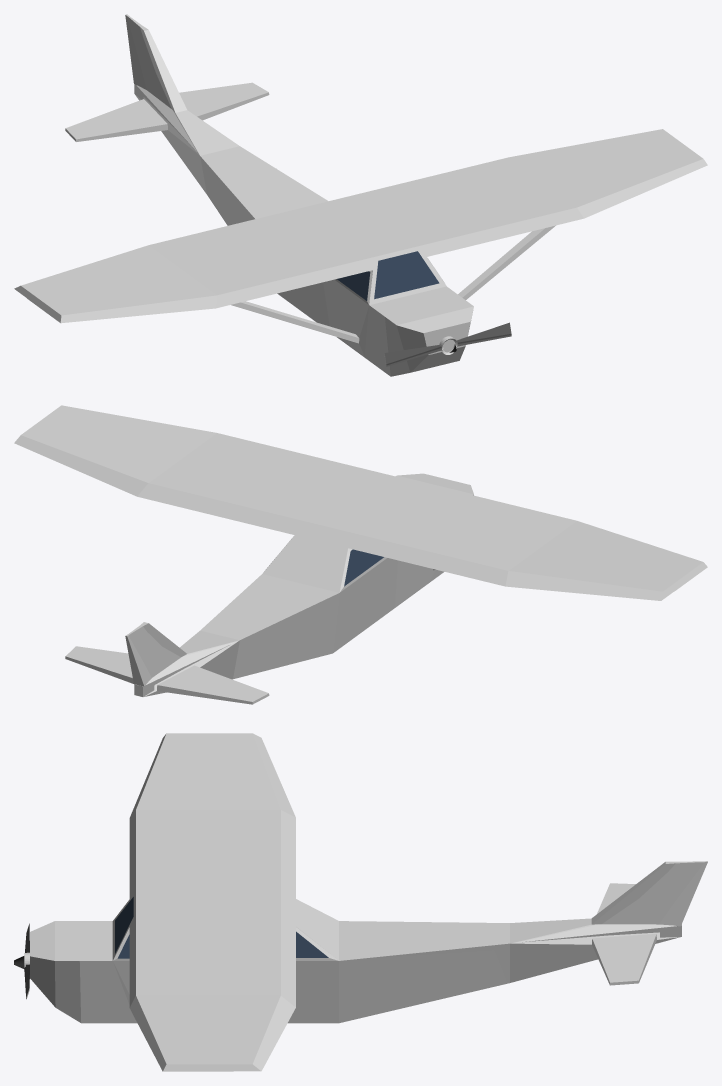
File: cessna_172.glb
The picture shows the model from 3 angles, top to bottom: view 1: azimuth 30°, elevation 25°; view 2: azimuth 150°, elevation 25°; view 3: azimuth 270°, elevation 25°; orthographic projection. The views are drawn at different scales.
Parts seen in each view (by area): view 1: Cube; view 2: Cube; view 3: Cube.
Boxes of the visible parts, bbox=[...] form: Cube: bbox=[14, 14, 707, 376]; Cube: bbox=[14, 405, 707, 704]; Cube: bbox=[14, 733, 707, 1071].
Size of the model in its own units: 20.06 by 4.07 by 17.63.
